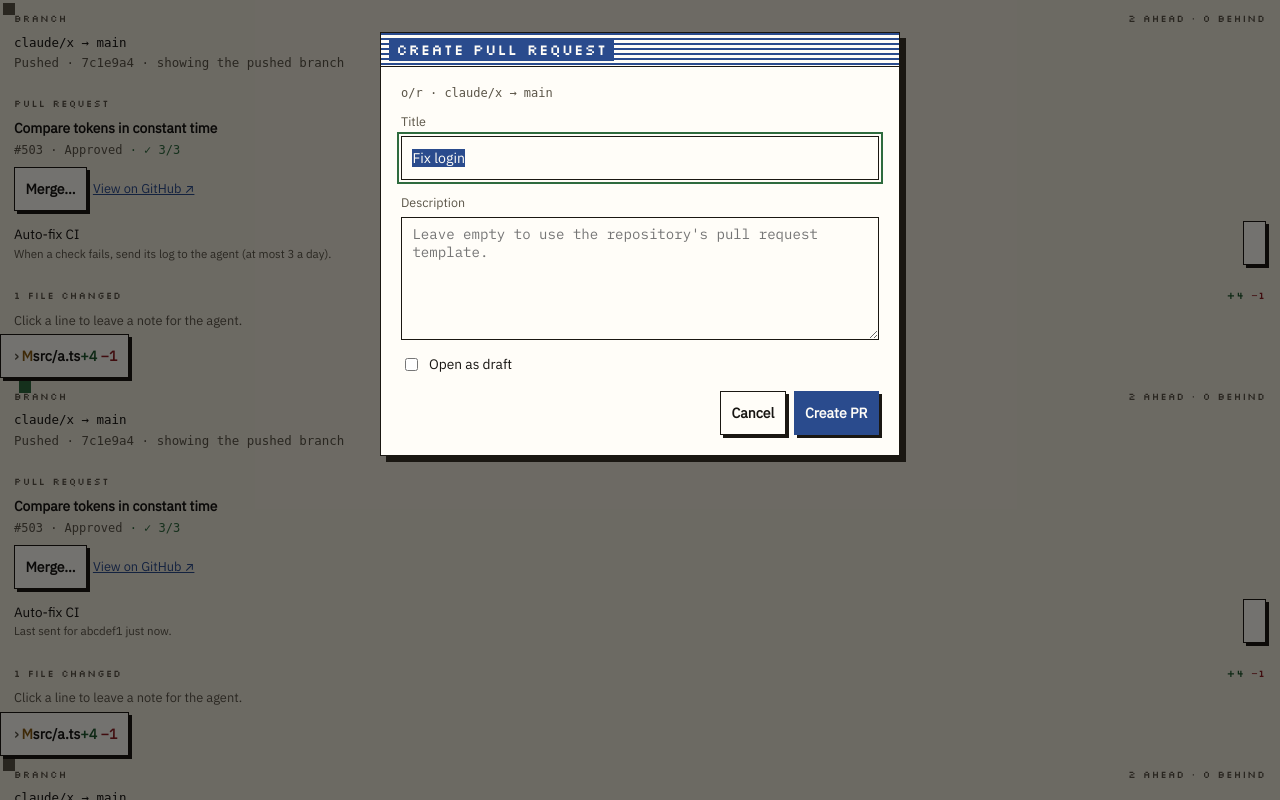
Scenario: CreatePrDialog › prefills the title, sends draft, and shows the api's refusal inline
Expected: the field labelled "Title" holds "Fix login", [401,136,879,180]
Click the checkbox labelled "Open as draft" at (412, 364), box [405,358,418,371]
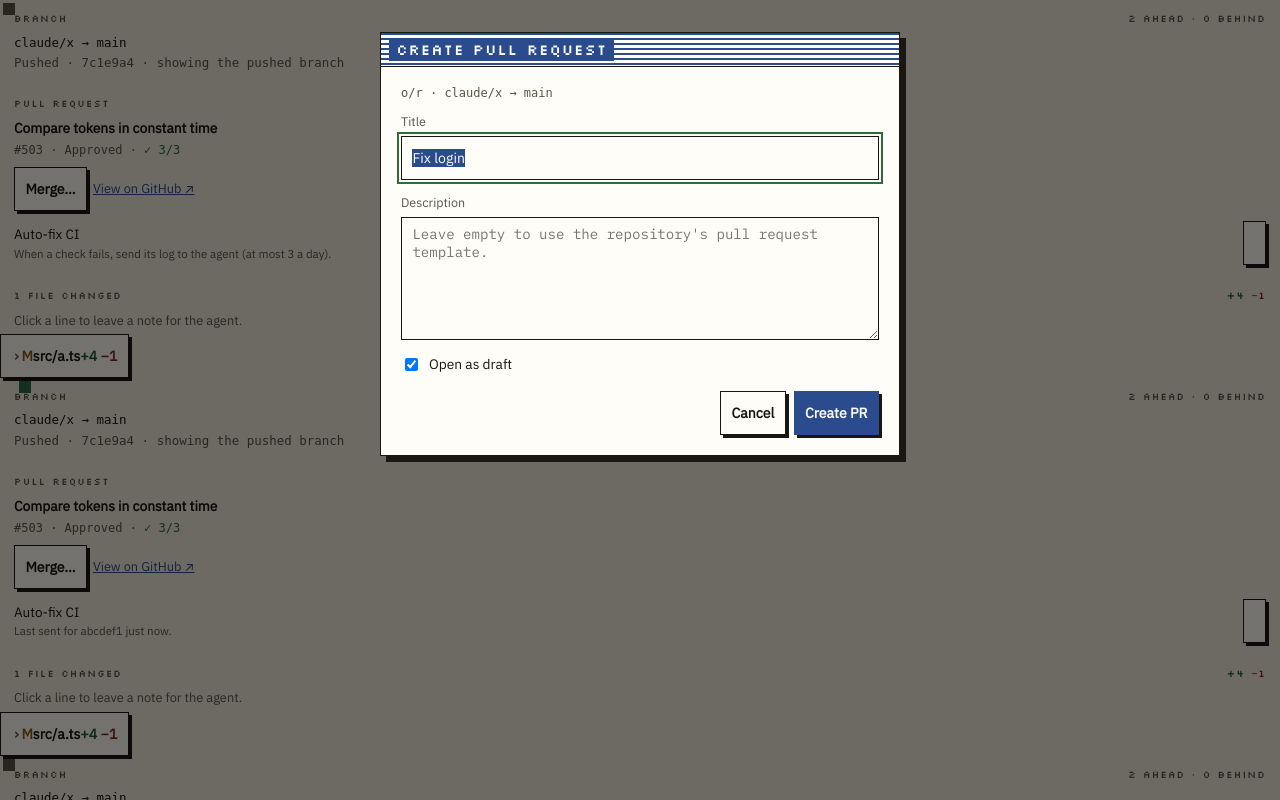
Click the button "Create PR" at (836, 412), box [794,390,879,434]
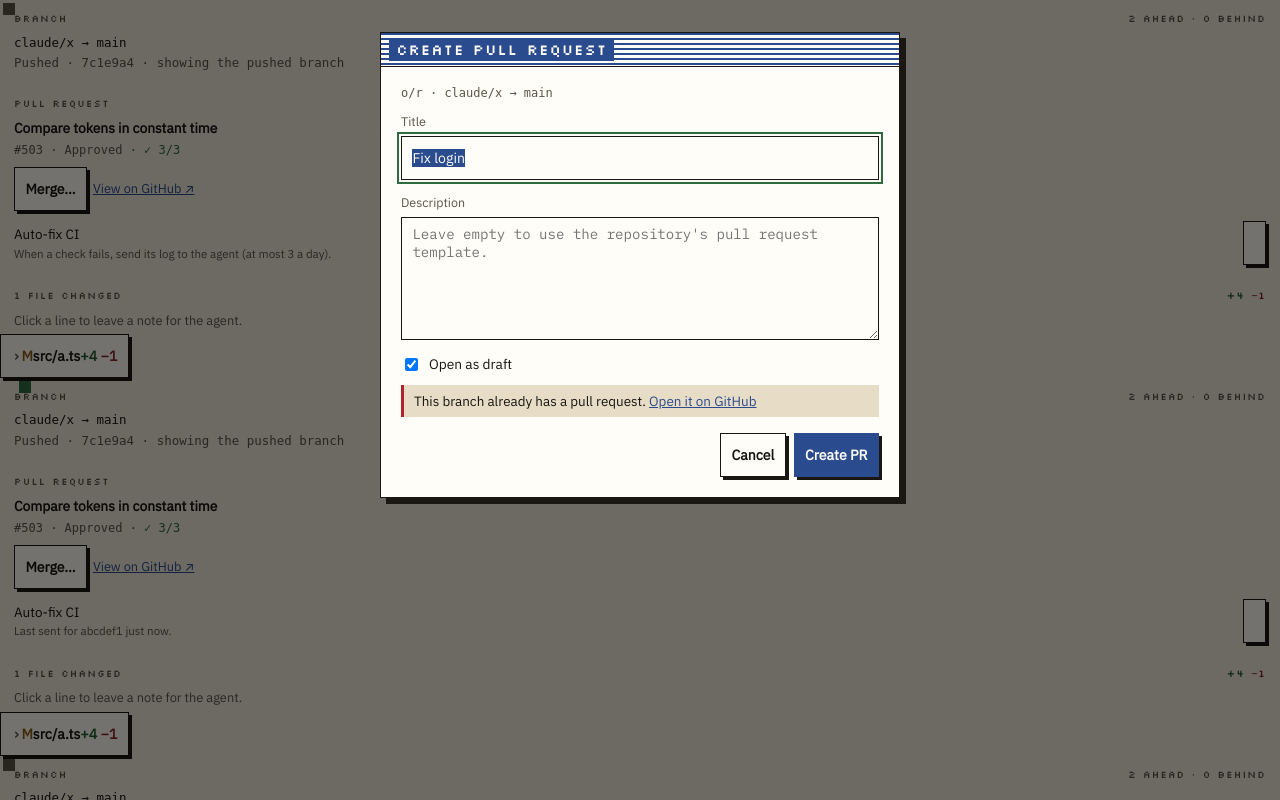
Result: the message "This branch already has a pull request. Open it on GitHub" is shown at [401,384,879,417]
